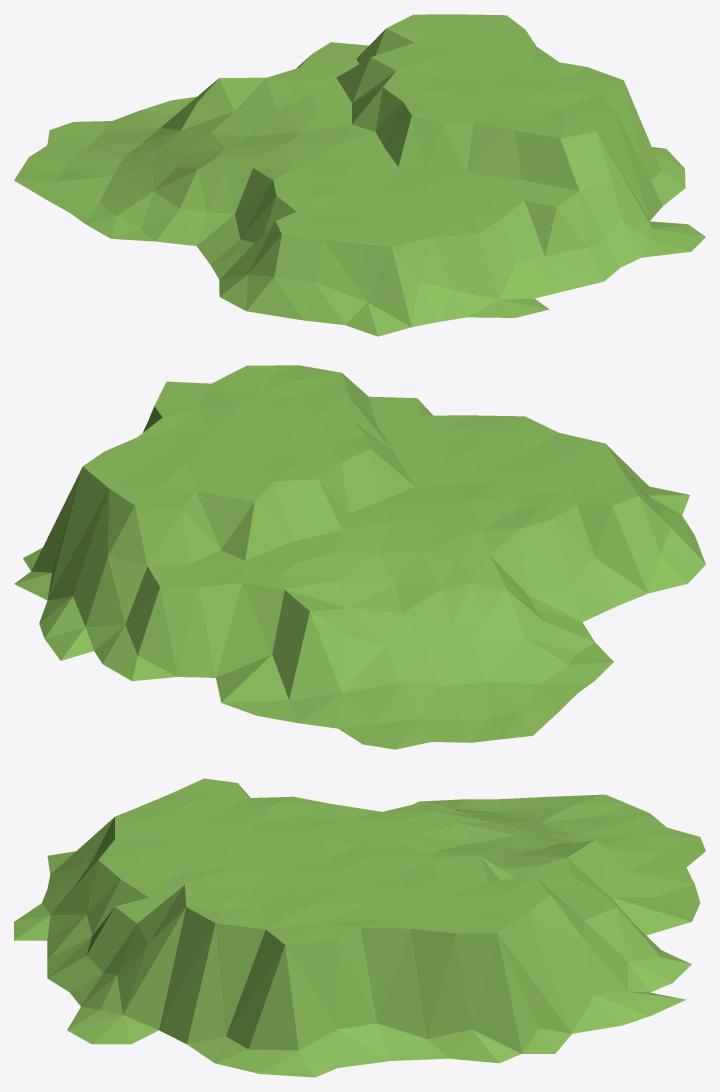
Rendered from MT_Mountain_M_c_21_LOD.fbx.
3 views of the same model, one above another, from view 1: azimuth 30°, elevation 25°; view 2: azimuth 150°, elevation 25°; view 3: azimuth 270°, elevation 25° (orthographic). The views are drawn at different scales.
Parts seen in each view (by area): view 1: MT_Mountain_M_c_21_LOD0; view 2: MT_Mountain_M_c_21_LOD0; view 3: MT_Mountain_M_c_21_LOD0.
Part boxes in pixels (<box>): MT_Mountain_M_c_21_LOD0: <box>14,14,705,336</box>; MT_Mountain_M_c_21_LOD0: <box>14,365,705,749</box>; MT_Mountain_M_c_21_LOD0: <box>14,778,705,1077</box>.
Size of what is drawn, in the model's own units: 4688 by 802 by 4844.
